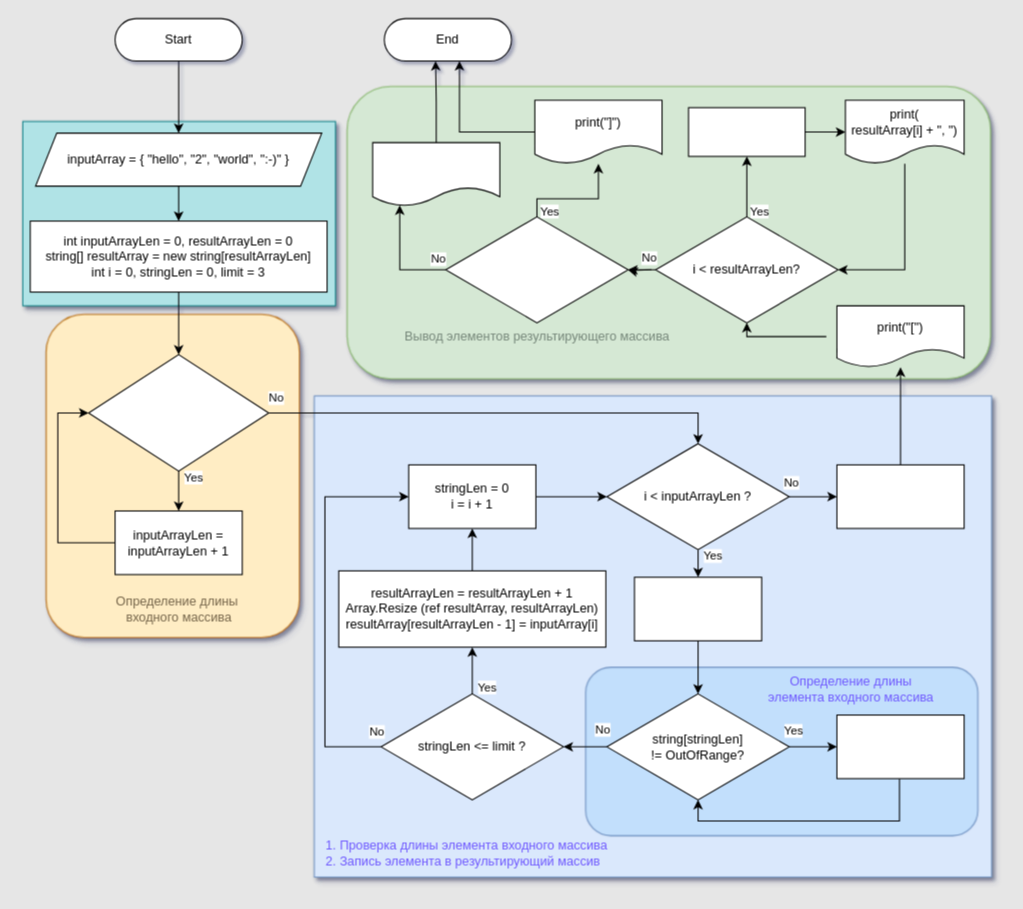
The diagram is 1023 pixels wide and 909 high, and some of its shapes have lost their labels. The shapes that lost their labels are listed below. From the top down, each one's centre as x and y in pixels, then its label:
pixel 746 131: i = i + 1
pixel 436 174: print("\b\b]")
pixel 536 269: resultArrayLen == 0 ?
pixel 178 412: inputArray[inputArrayLen] != OutOfRange?
pixel 900 496: i = 0
pixel 697 608: string = inputArray[i]
pixel 900 746: stringLen = stringLen + 1
